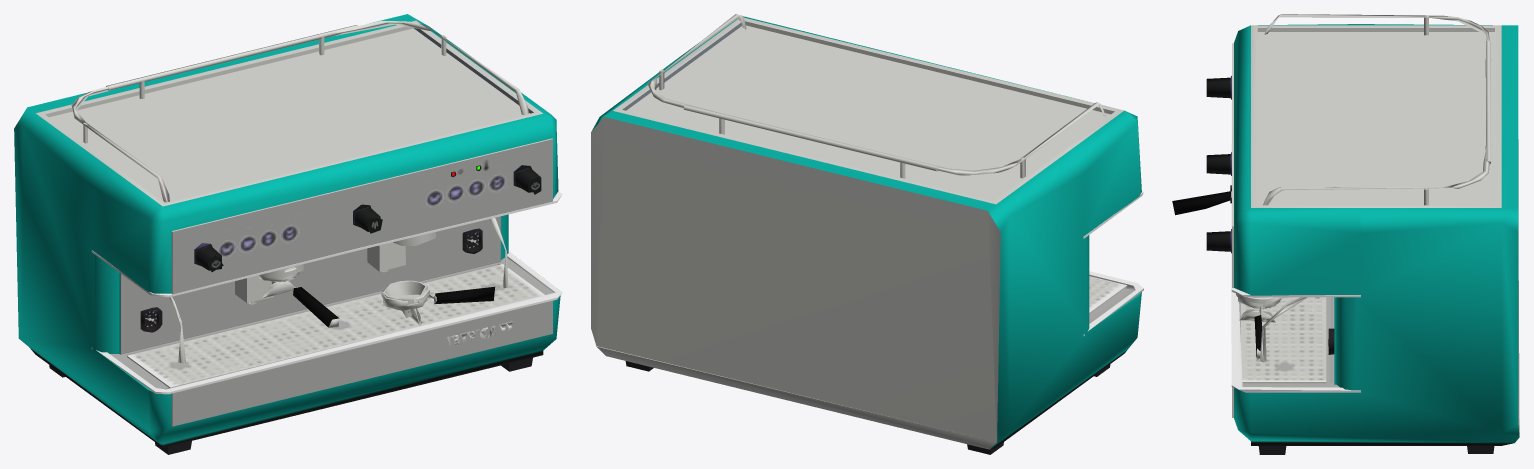
The model's file is coffee-machine-v3.glb.
3 renders of one model, left to right at view 1: azimuth 30°, elevation 25°; view 2: azimuth 150°, elevation 25°; view 3: azimuth 270°, elevation 25°, orthographic. The views are drawn at different scales.
Parts seen in each view (by area): view 1: NAME_1; view 2: NAME_1; view 3: NAME_1.
Part boxes in pixels (bbox=[...]): NAME_1: bbox=[14, 14, 562, 454]; NAME_1: bbox=[591, 14, 1143, 454]; NAME_1: bbox=[1172, 14, 1519, 454].
Bounding box in the file's own units: 0.9402 × 0.5911 × 0.698.
1 material, 1 textured.
